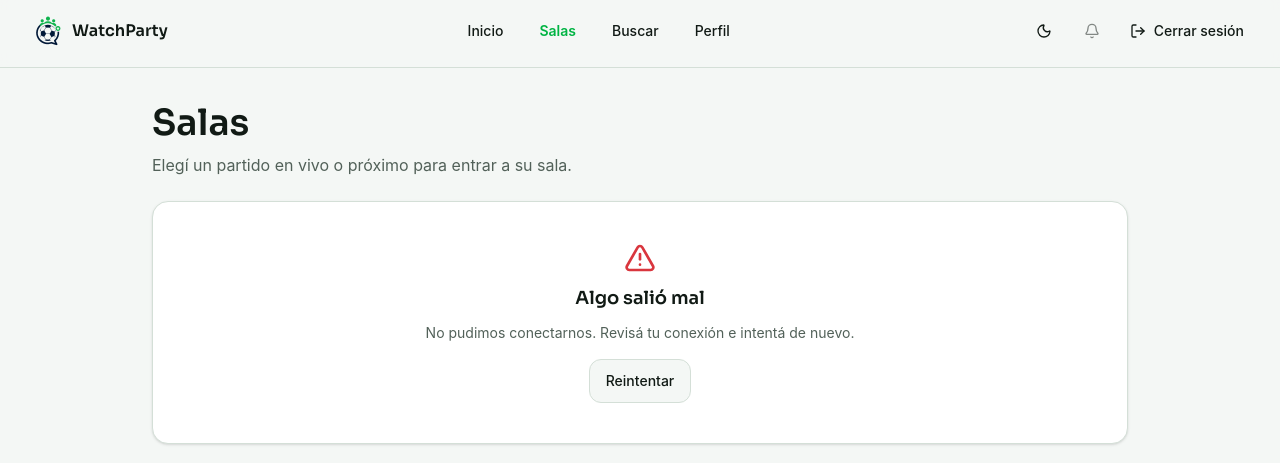
Test: Directorio de salas — foco al terminar el reintento › si el reintento termina en sesión vencida, el foco pasa a la alerta de reingreso
Later steps or results of the test are not shown.
Expected: the message is shown, top-left (152, 201), bottom-right (1128, 444)
Click the button "Reintentar": (640, 381) top-left (589, 359), bottom-right (691, 403)
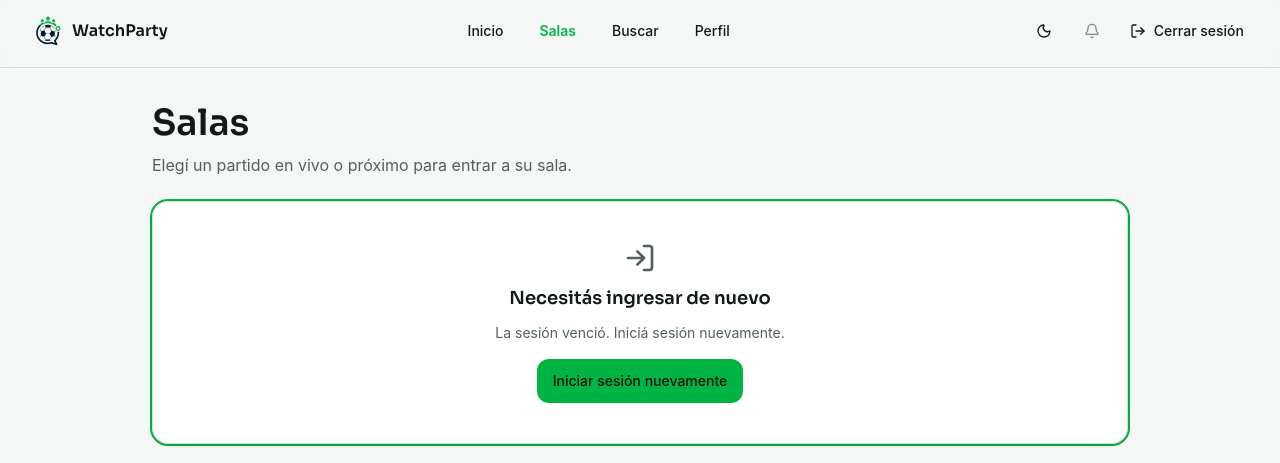
Expected: the button "Iniciar sesión nuevamente" is shown, top-left (537, 359), bottom-right (743, 403)
